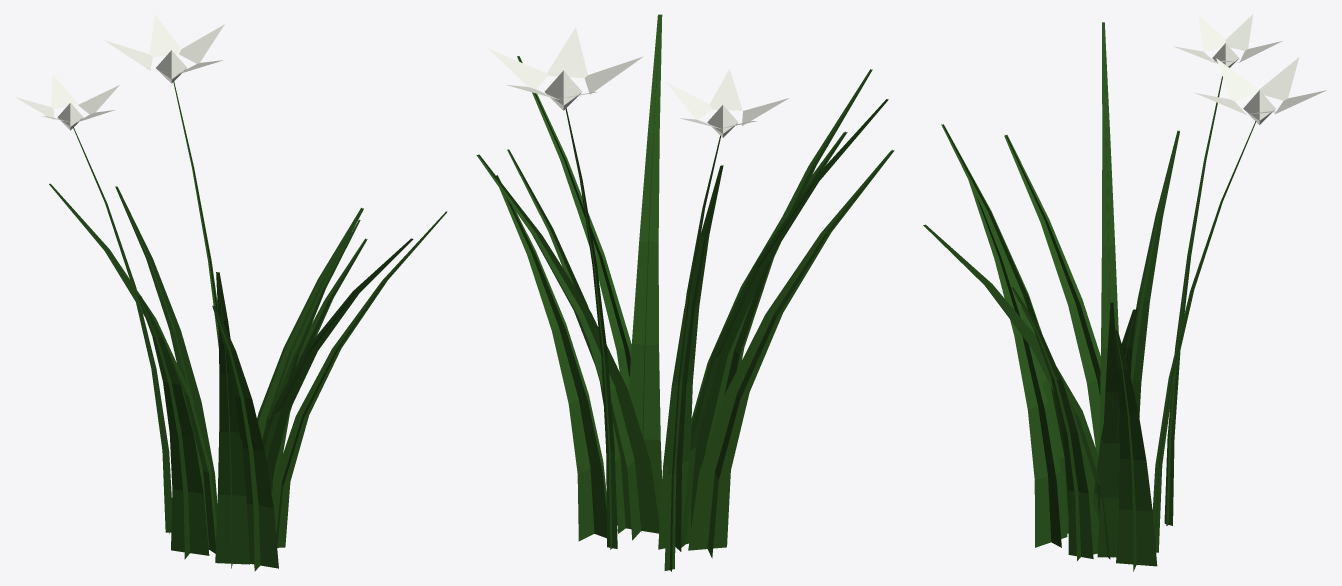
The model's file is BuiCo0.obj.
The picture shows the model from 3 angles, left to right: view 1: azimuth 30°, elevation 25°; view 2: azimuth 150°, elevation 25°; view 3: azimuth 270°, elevation 25°; orthographic projection. The views are drawn at different scales.
Parts seen in each view (by area): view 1: BuiCo0_Co, BuiCo0_Hoa; view 2: BuiCo0_Co, BuiCo0_Hoa; view 3: BuiCo0_Co, BuiCo0_Hoa.
Boxes of the visible parts, left/top/right/bottom form: BuiCo0_Co: left=49, top=81, right=447, bottom=571; BuiCo0_Hoa: left=15, top=14, right=224, bottom=130; BuiCo0_Co: left=476, top=14, right=894, bottom=571; BuiCo0_Hoa: left=488, top=27, right=788, bottom=137; BuiCo0_Co: left=923, top=22, right=1256, bottom=571; BuiCo0_Hoa: left=1173, top=14, right=1327, bottom=124.
Size of the model in its own units: 0.5472 by 0.659 by 0.5185.
